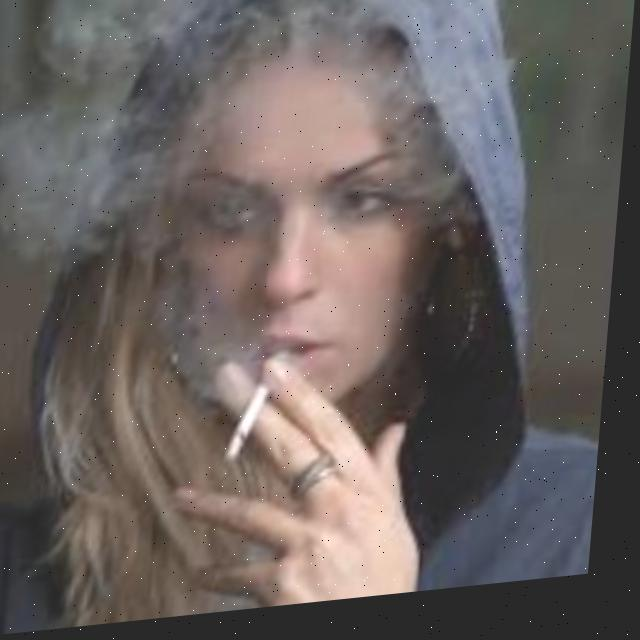cigarette: (231, 388, 278, 470)
